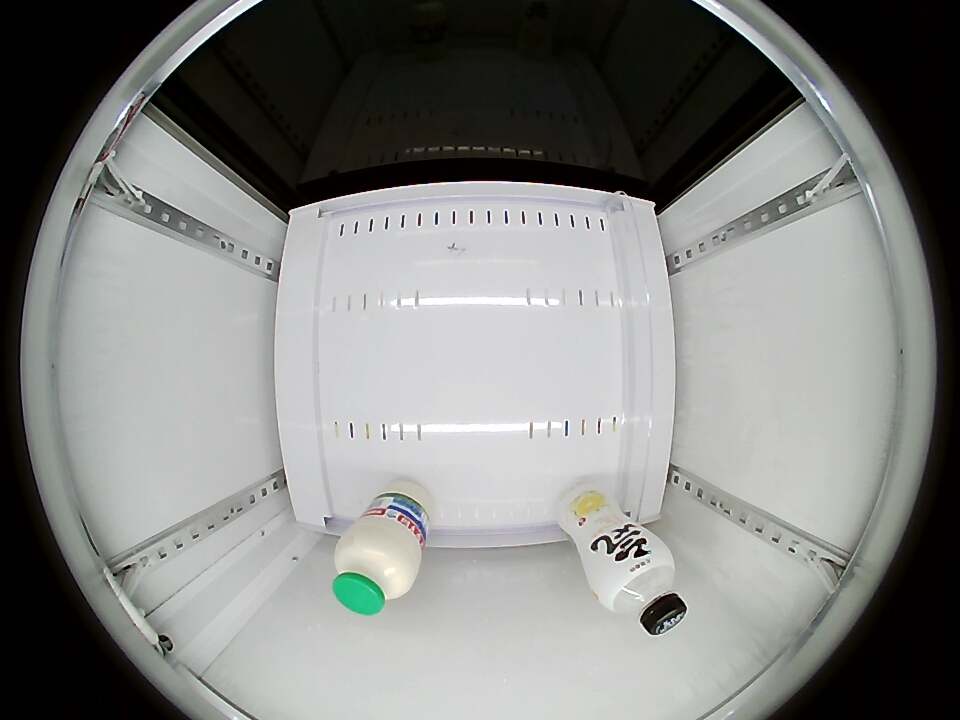liziyuan: (332, 513, 424, 617)
yuanqishui: (590, 538, 688, 636)
